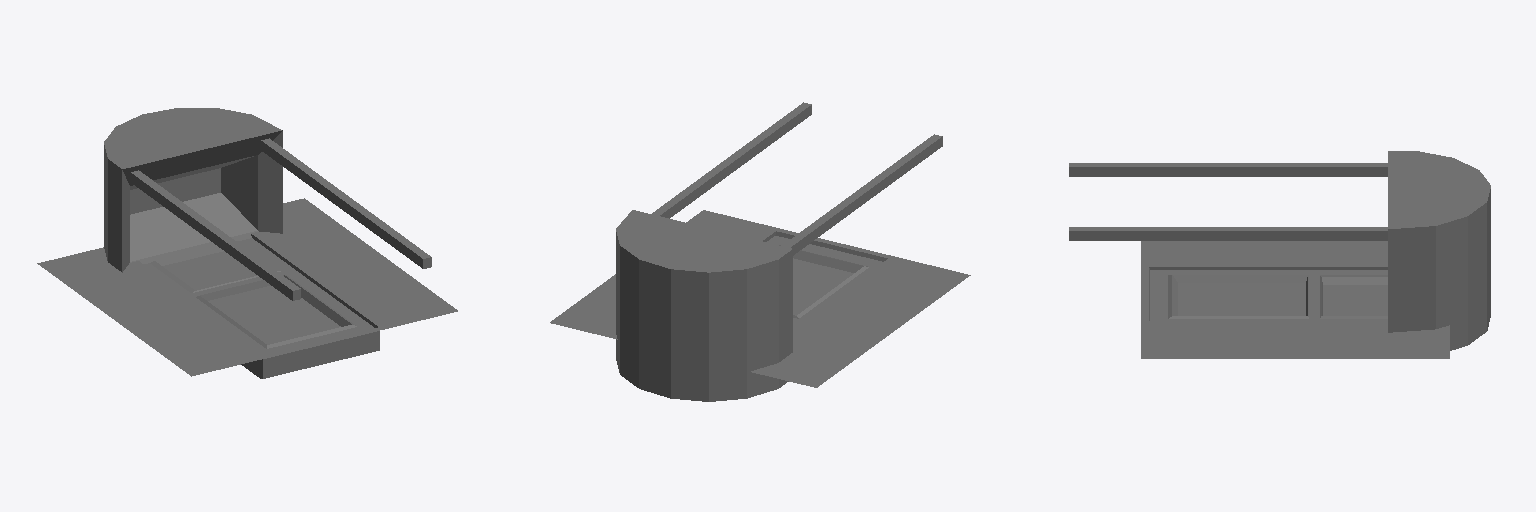
The model's file is door5.obj.
3 renders of one model, left to right at view 1: azimuth 30°, elevation 25°; view 2: azimuth 150°, elevation 25°; view 3: azimuth 270°, elevation 25°, orthographic.
Visible parts, largest first — view 1: door5:pPlane5, door5:pCylinder1, door5:pCube7, door5:pCube8, door5:pCube9; view 2: door5:pCylinder1, door5:pPlane5, door5:pCube7, door5:pCube9, door5:pCube8; view 3: door5:pPlane5, door5:pCylinder1, door5:pCube7, door5:pCube9, door5:pCube8.
Boxes of the visible parts, <box> form: door5:pPlane5: <box>37,198,457,378</box>; door5:pCylinder1: <box>104,108,282,272</box>; door5:pCube7: <box>144,238,379,378</box>; door5:pCube8: <box>258,138,431,268</box>; door5:pCube9: <box>128,170,300,300</box>; door5:pCylinder1: <box>616,210,792,401</box>; door5:pPlane5: <box>550,210,970,387</box>; door5:pCube7: <box>767,236,882,327</box>; door5:pCube9: <box>782,134,942,255</box>; door5:pCube8: <box>652,102,811,218</box>; door5:pPlane5: <box>1141,241,1449,358</box>; door5:pCylinder1: <box>1388,151,1490,350</box>; door5:pCube7: <box>1150,270,1387,320</box>; door5:pCube9: <box>1069,163,1387,176</box>; door5:pCube8: <box>1069,227,1387,240</box>.
Bounding box in the file's own units: 1 × 0.4728 × 1.37.